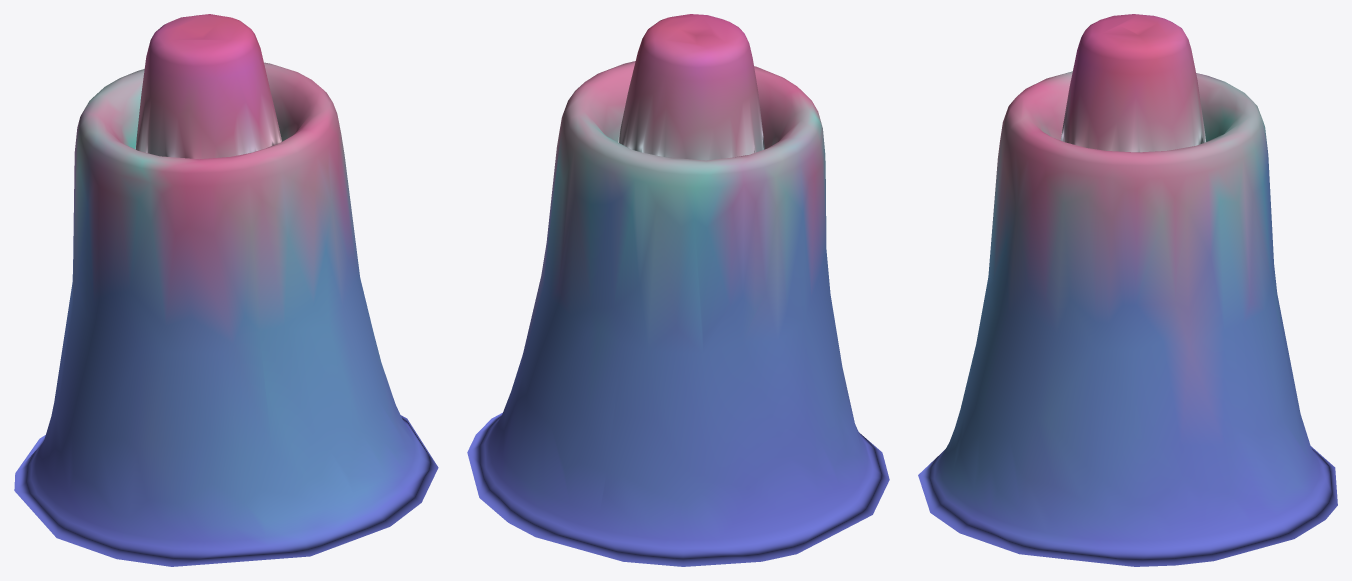
3 renders of one model, left to right at view 1: azimuth 30°, elevation 25°; view 2: azimuth 150°, elevation 25°; view 3: azimuth 270°, elevation 25°, orthographic.
Parts seen in each view (by area): view 1: LOD 3_18409866040645993065_000c7580005880844991c3b836c91307; view 2: LOD 3_18409866040645993065_000c7580005880844991c3b836c91307; view 3: LOD 3_18409866040645993065_000c7580005880844991c3b836c91307.
Part boxes in pixels (x1=…): LOD 3_18409866040645993065_000c7580005880844991c3b836c91307: x1=14, y1=14, x2=438, y2=566; LOD 3_18409866040645993065_000c7580005880844991c3b836c91307: x1=467, y1=14, x2=889, y2=566; LOD 3_18409866040645993065_000c7580005880844991c3b836c91307: x1=918, y1=14, x2=1337, y2=566.
Bounding box in the file's own units: 1.25 × 1.49 × 1.24.
